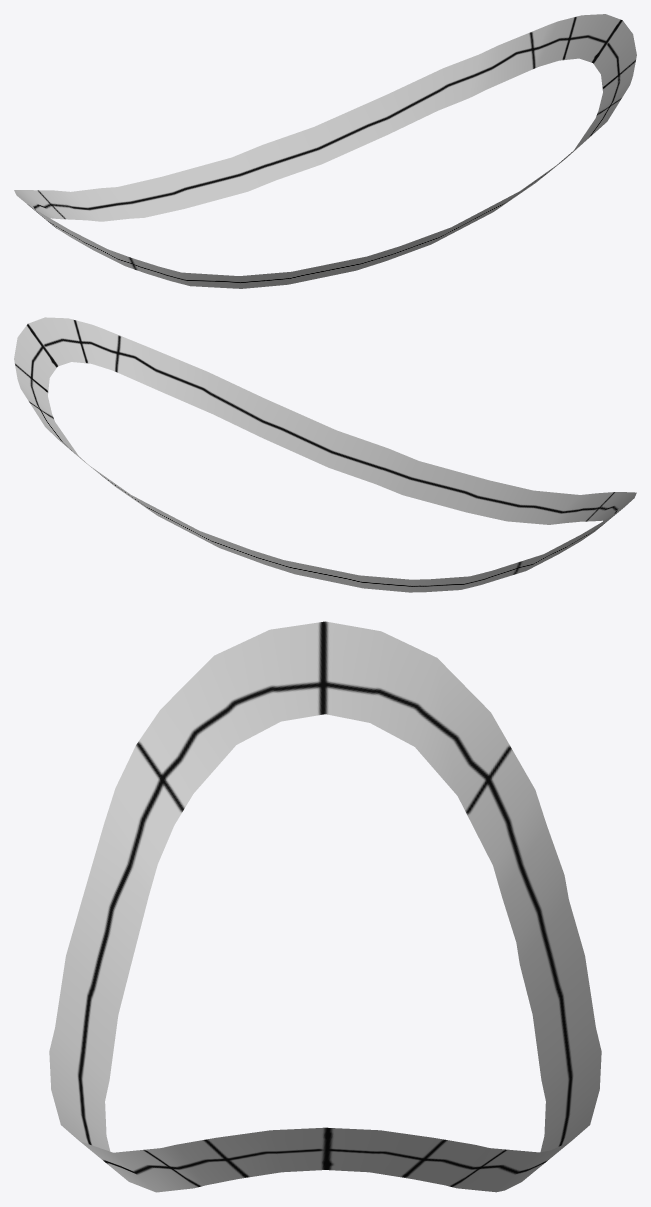
3 renders of one model, top to bottom at view 1: azimuth 30°, elevation 25°; view 2: azimuth 150°, elevation 25°; view 3: azimuth 270°, elevation 25°, orthographic. The views are drawn at different scales.
Parts seen in each view (by area): view 1: 球体.017; view 2: 球体.017; view 3: 球体.017.
Boxes of the visible parts, x1,y1,x2,y2 form: 球体.017: [14, 14, 636, 288]; 球体.017: [14, 317, 636, 592]; 球体.017: [49, 621, 601, 1192].
Bounding box in the file's own units: 67.04 × 14.25 × 26.89.
